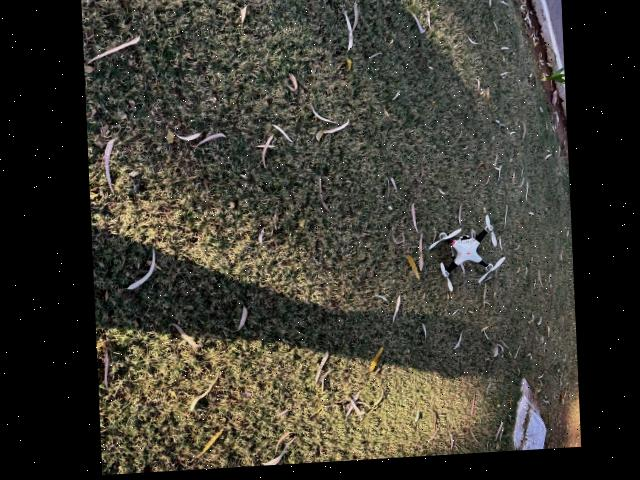drone: (407, 203, 518, 307)
